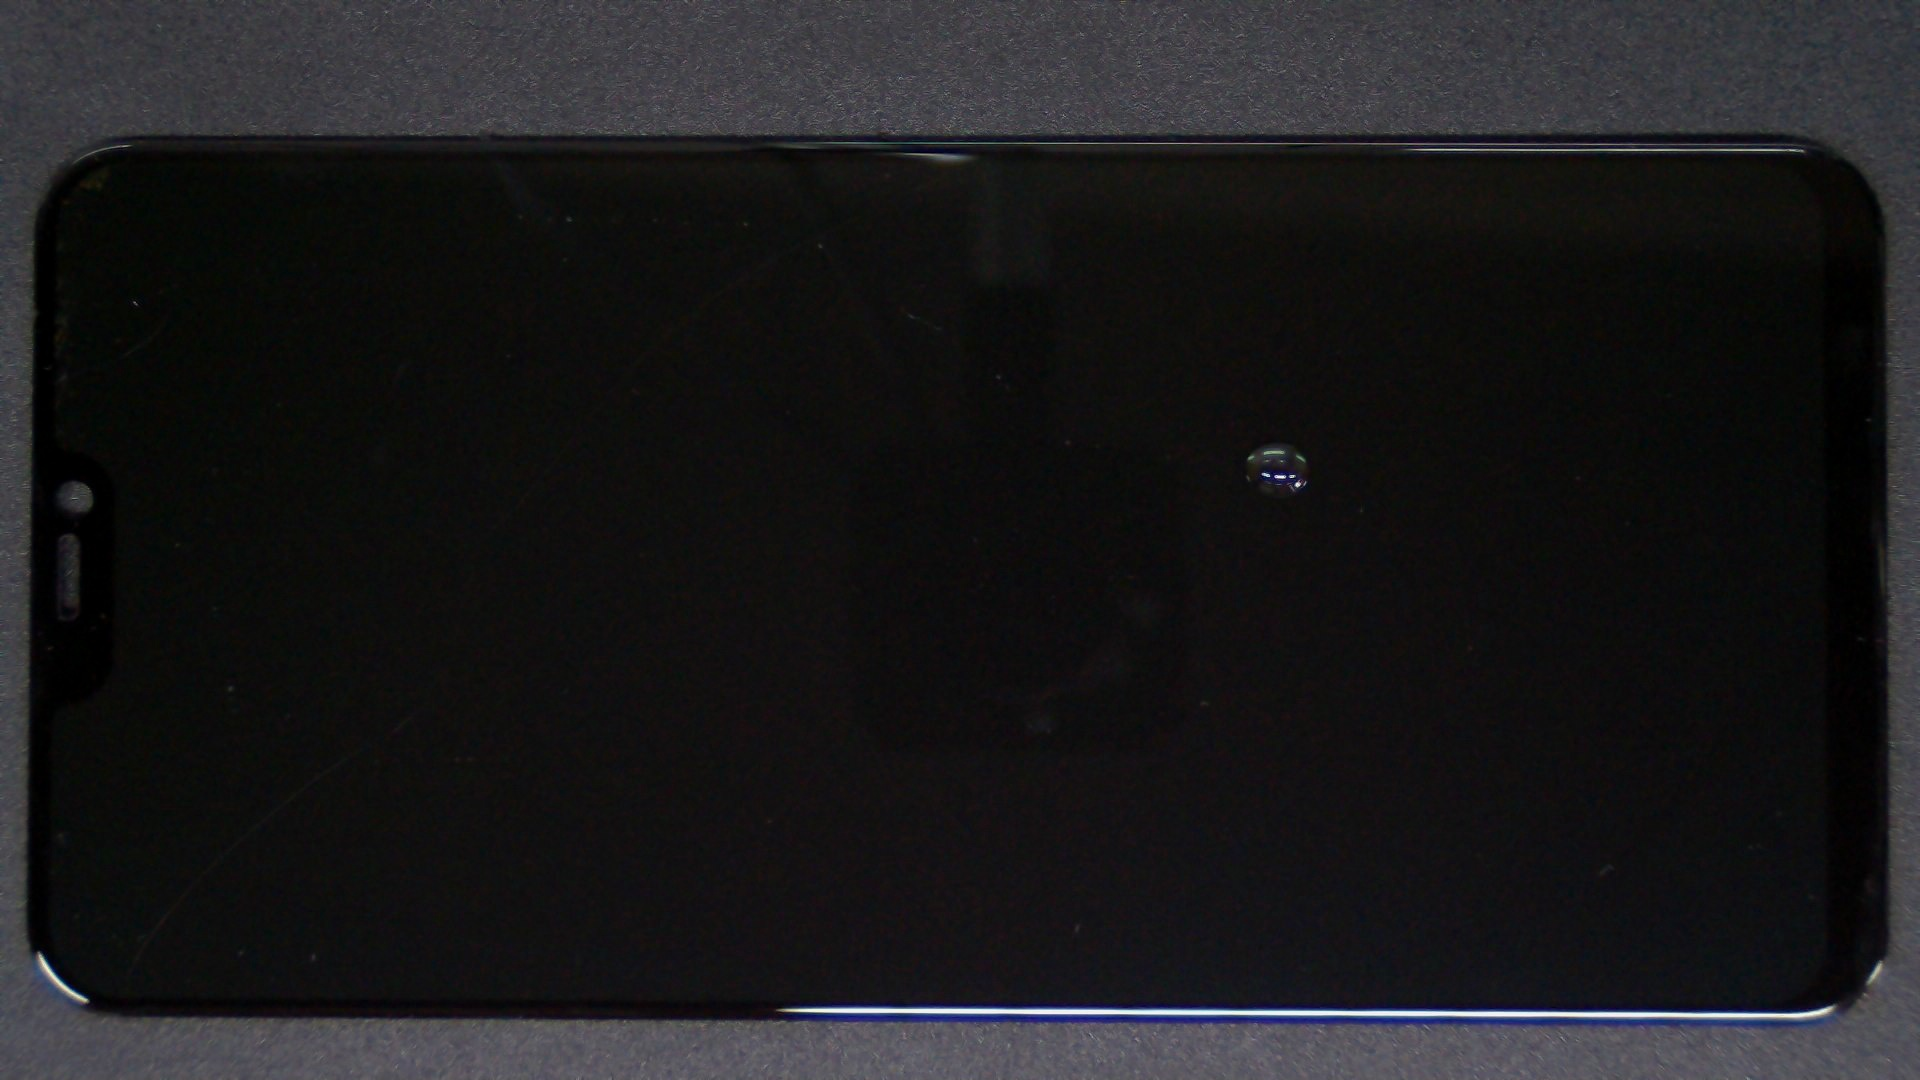oil: (640, 220, 1915, 663)
